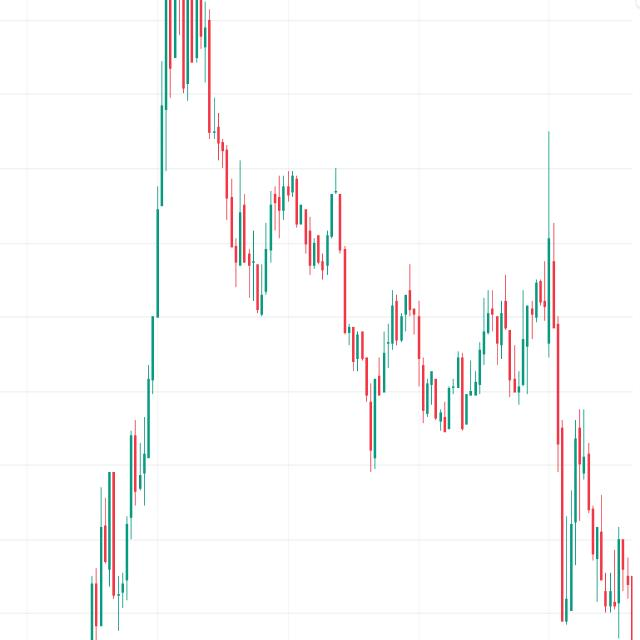Ascending-Triangle: (335, 265, 561, 504)
